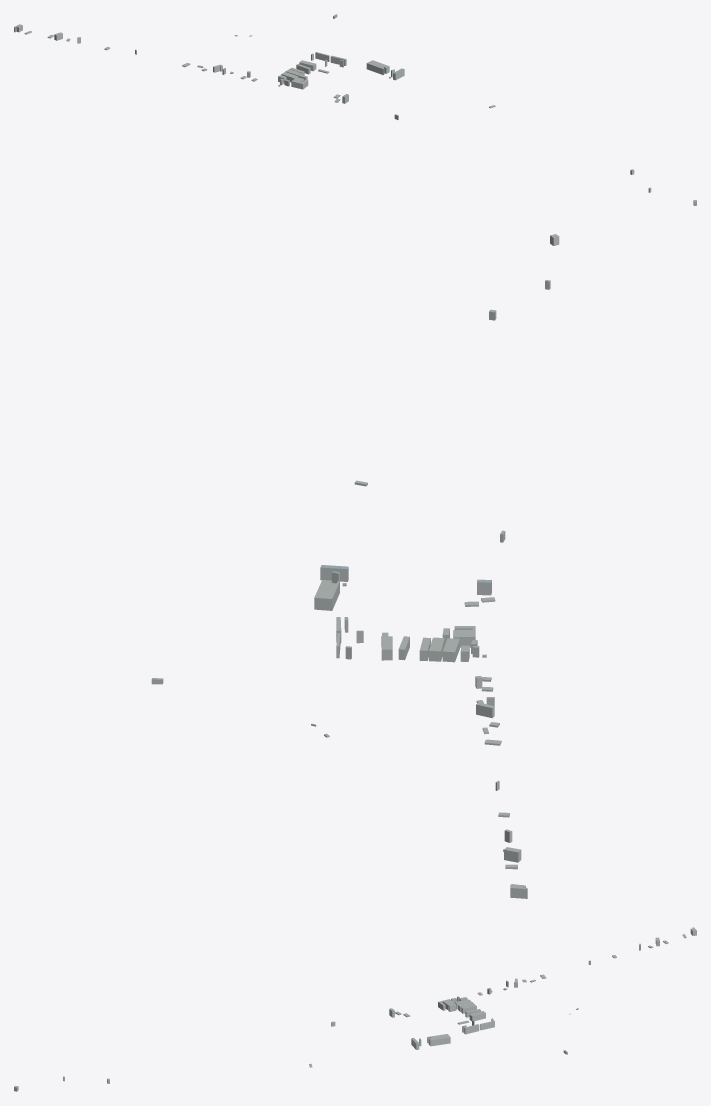
Rendered from far.glb.
3 renders of one model, top to bottom at view 1: azimuth 30°, elevation 25°; view 2: azimuth 150°, elevation 25°; view 3: azimuth 270°, elevation 25°, orthographic. The views are drawn at different scales.
Bounding box in the file's own units: 999 × 18.7 × 1806.
